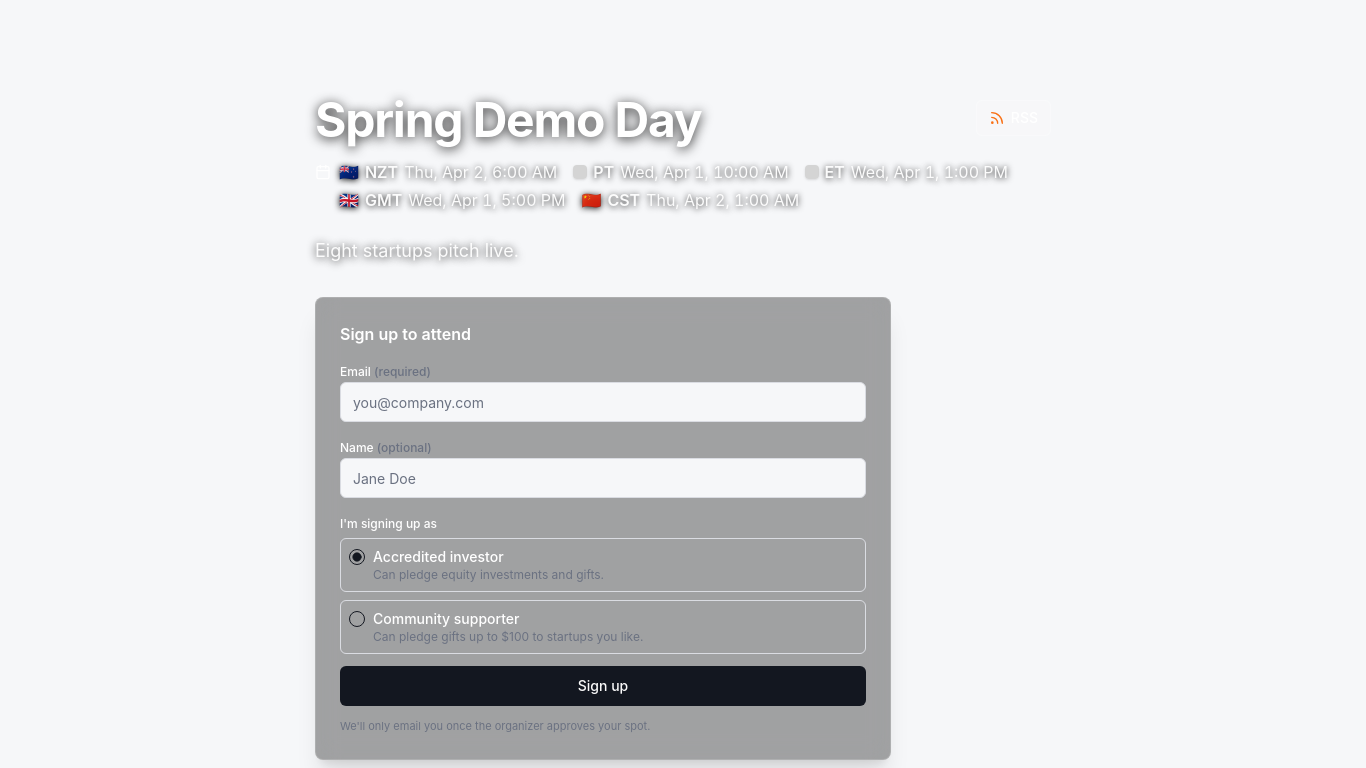
Test case: EventLanding page › submits the signup form and shows the on-the-list confirmation
This screenshot has width=1366, height=768.
Expected: the form with test id "event-signup-form" is shown, [340,322,866,735]
In the field labelled "Email (required)": x=603, y=402 [340,382,866,422], type "investor@example.com"
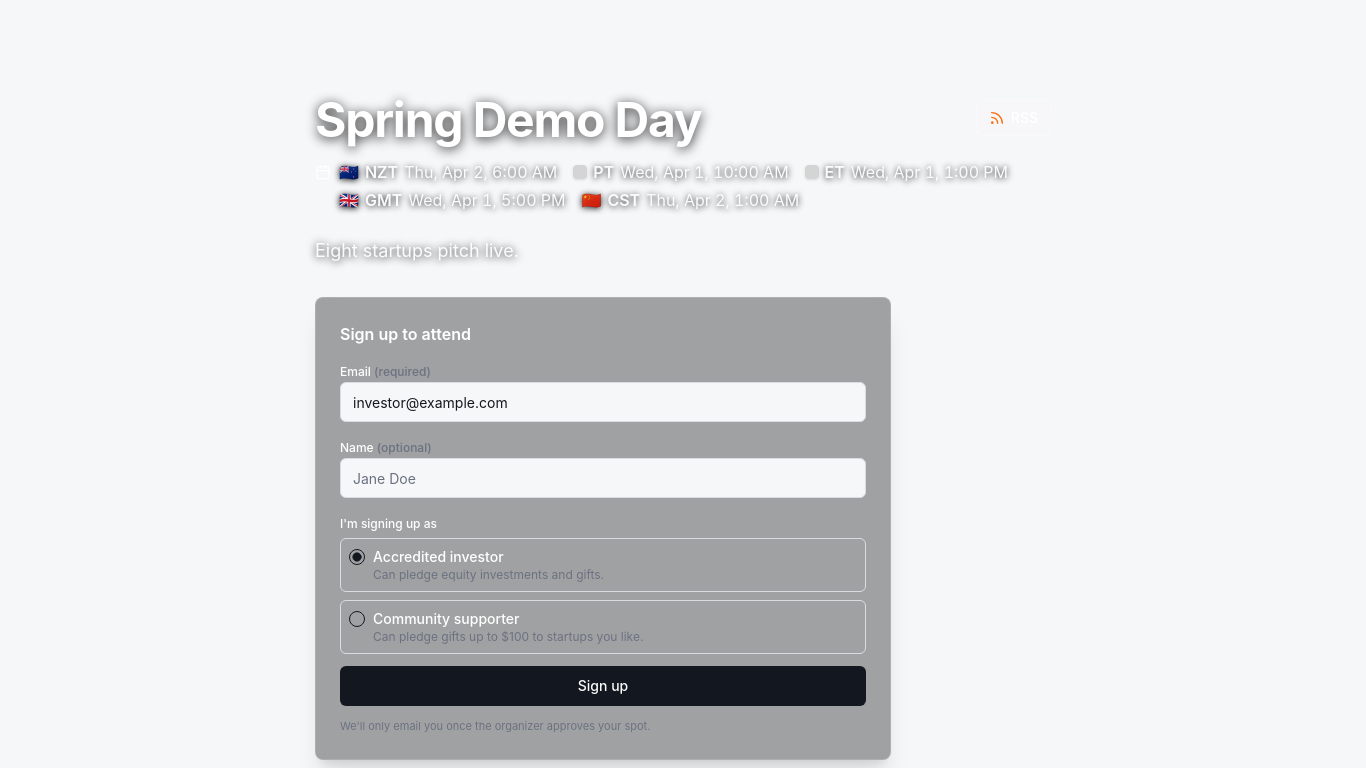
In the field labelled "Name (optional)": x=603, y=478 [340,458,866,498], type "Ivy"
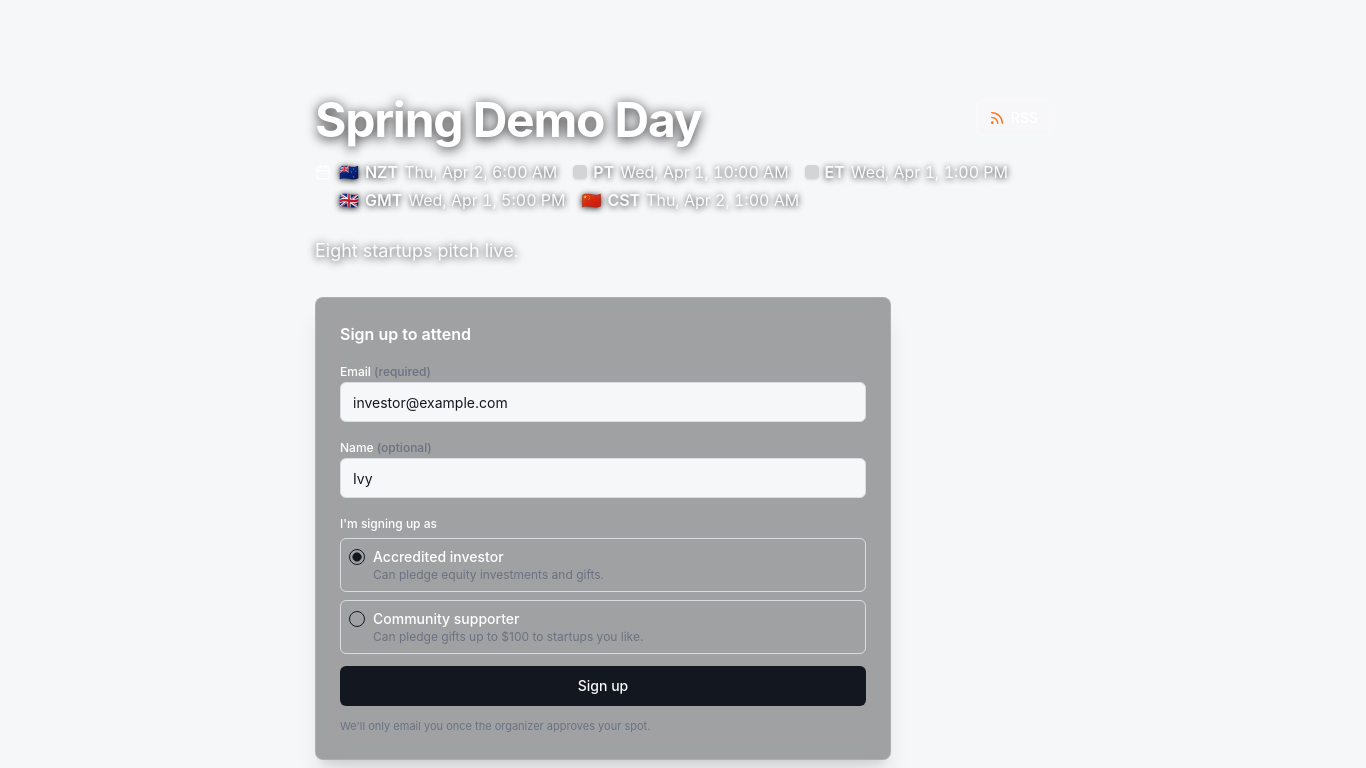
Click the button with test id "event-signup-submit": x=603, y=686 [340,666,866,706]
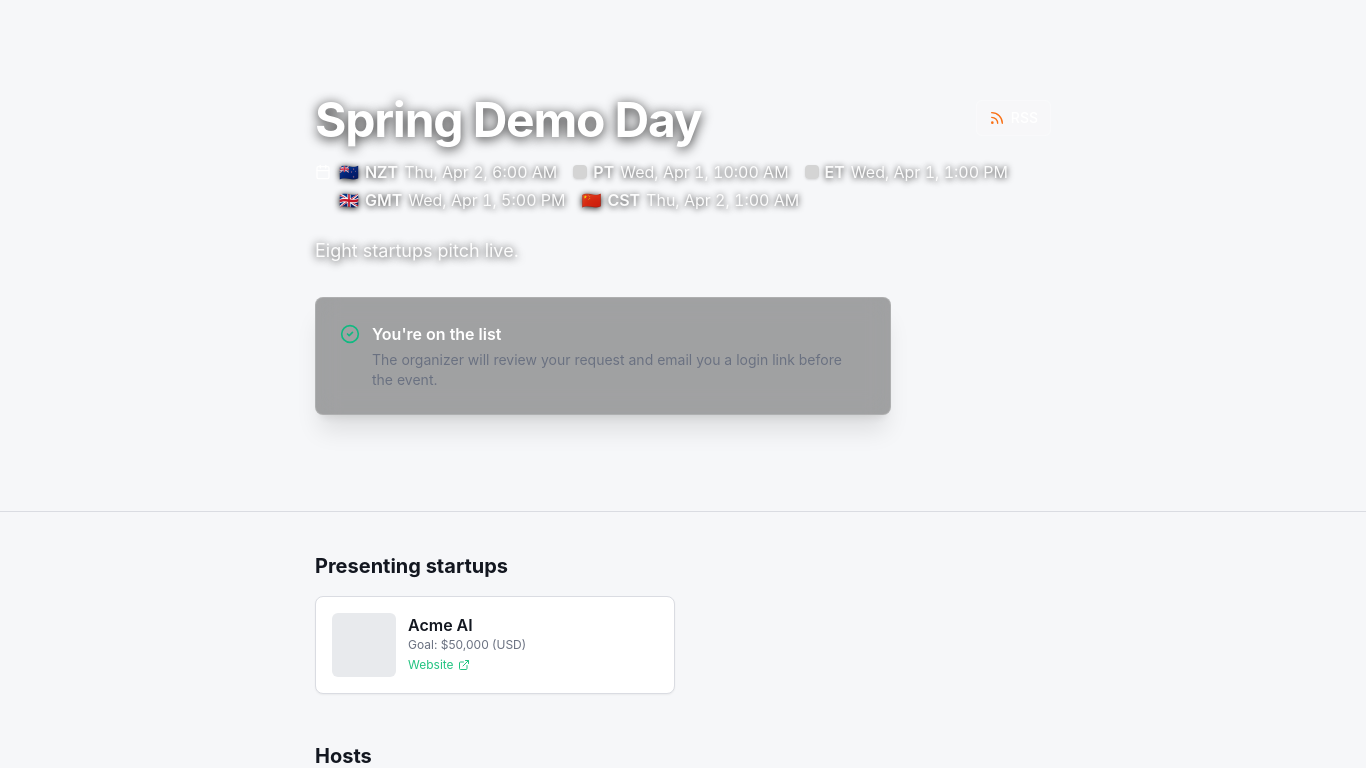
Now the heading "You're on the list" is shown, box [372,324,501,344]
